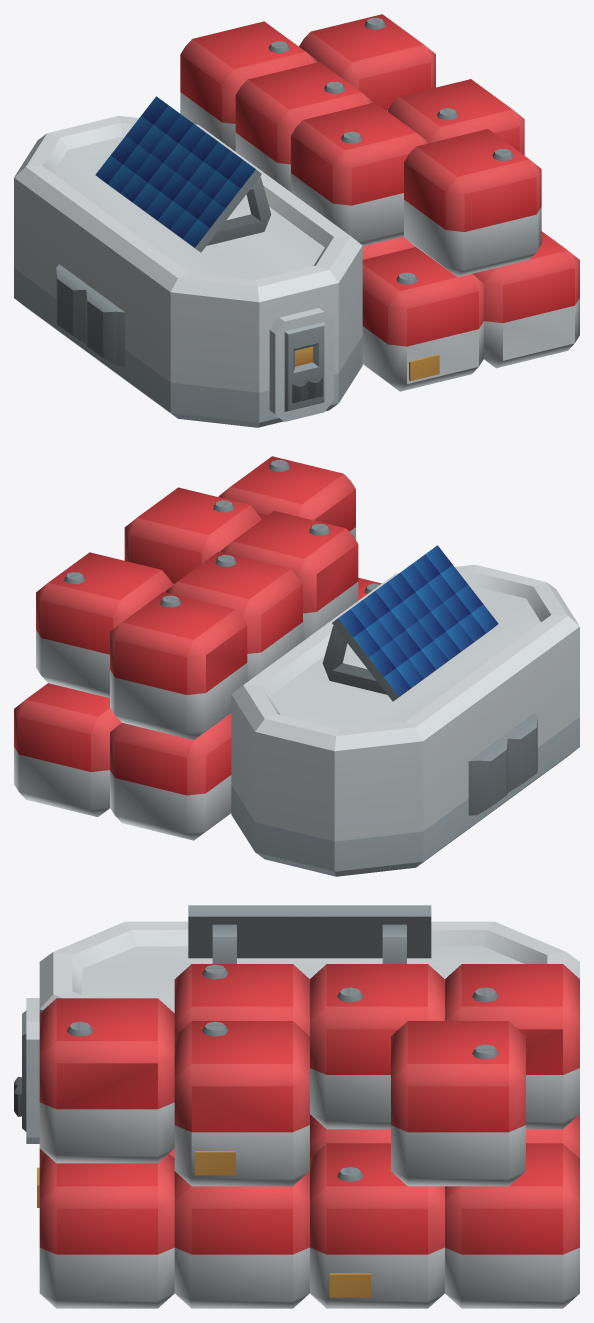
Rendered from Cargo Depot-cRtW9KaGs0.glb.
3 renders of one model, top to bottom at view 1: azimuth 30°, elevation 25°; view 2: azimuth 150°, elevation 25°; view 3: azimuth 270°, elevation 25°, orthographic. The views are drawn at different scales.
Visible parts, largest first — view 1: cargodepot_C; view 2: cargodepot_C; view 3: cargodepot_C.
Part boxes in pixels (x1,y1,x2,y2): cargodepot_C: (14, 14, 579, 427); cargodepot_C: (14, 456, 579, 876); cargodepot_C: (14, 905, 579, 1308).
Size of the model in its own units: 2.07 by 1.02 by 2.1.
Materials: 1 (1 with a texture image).
